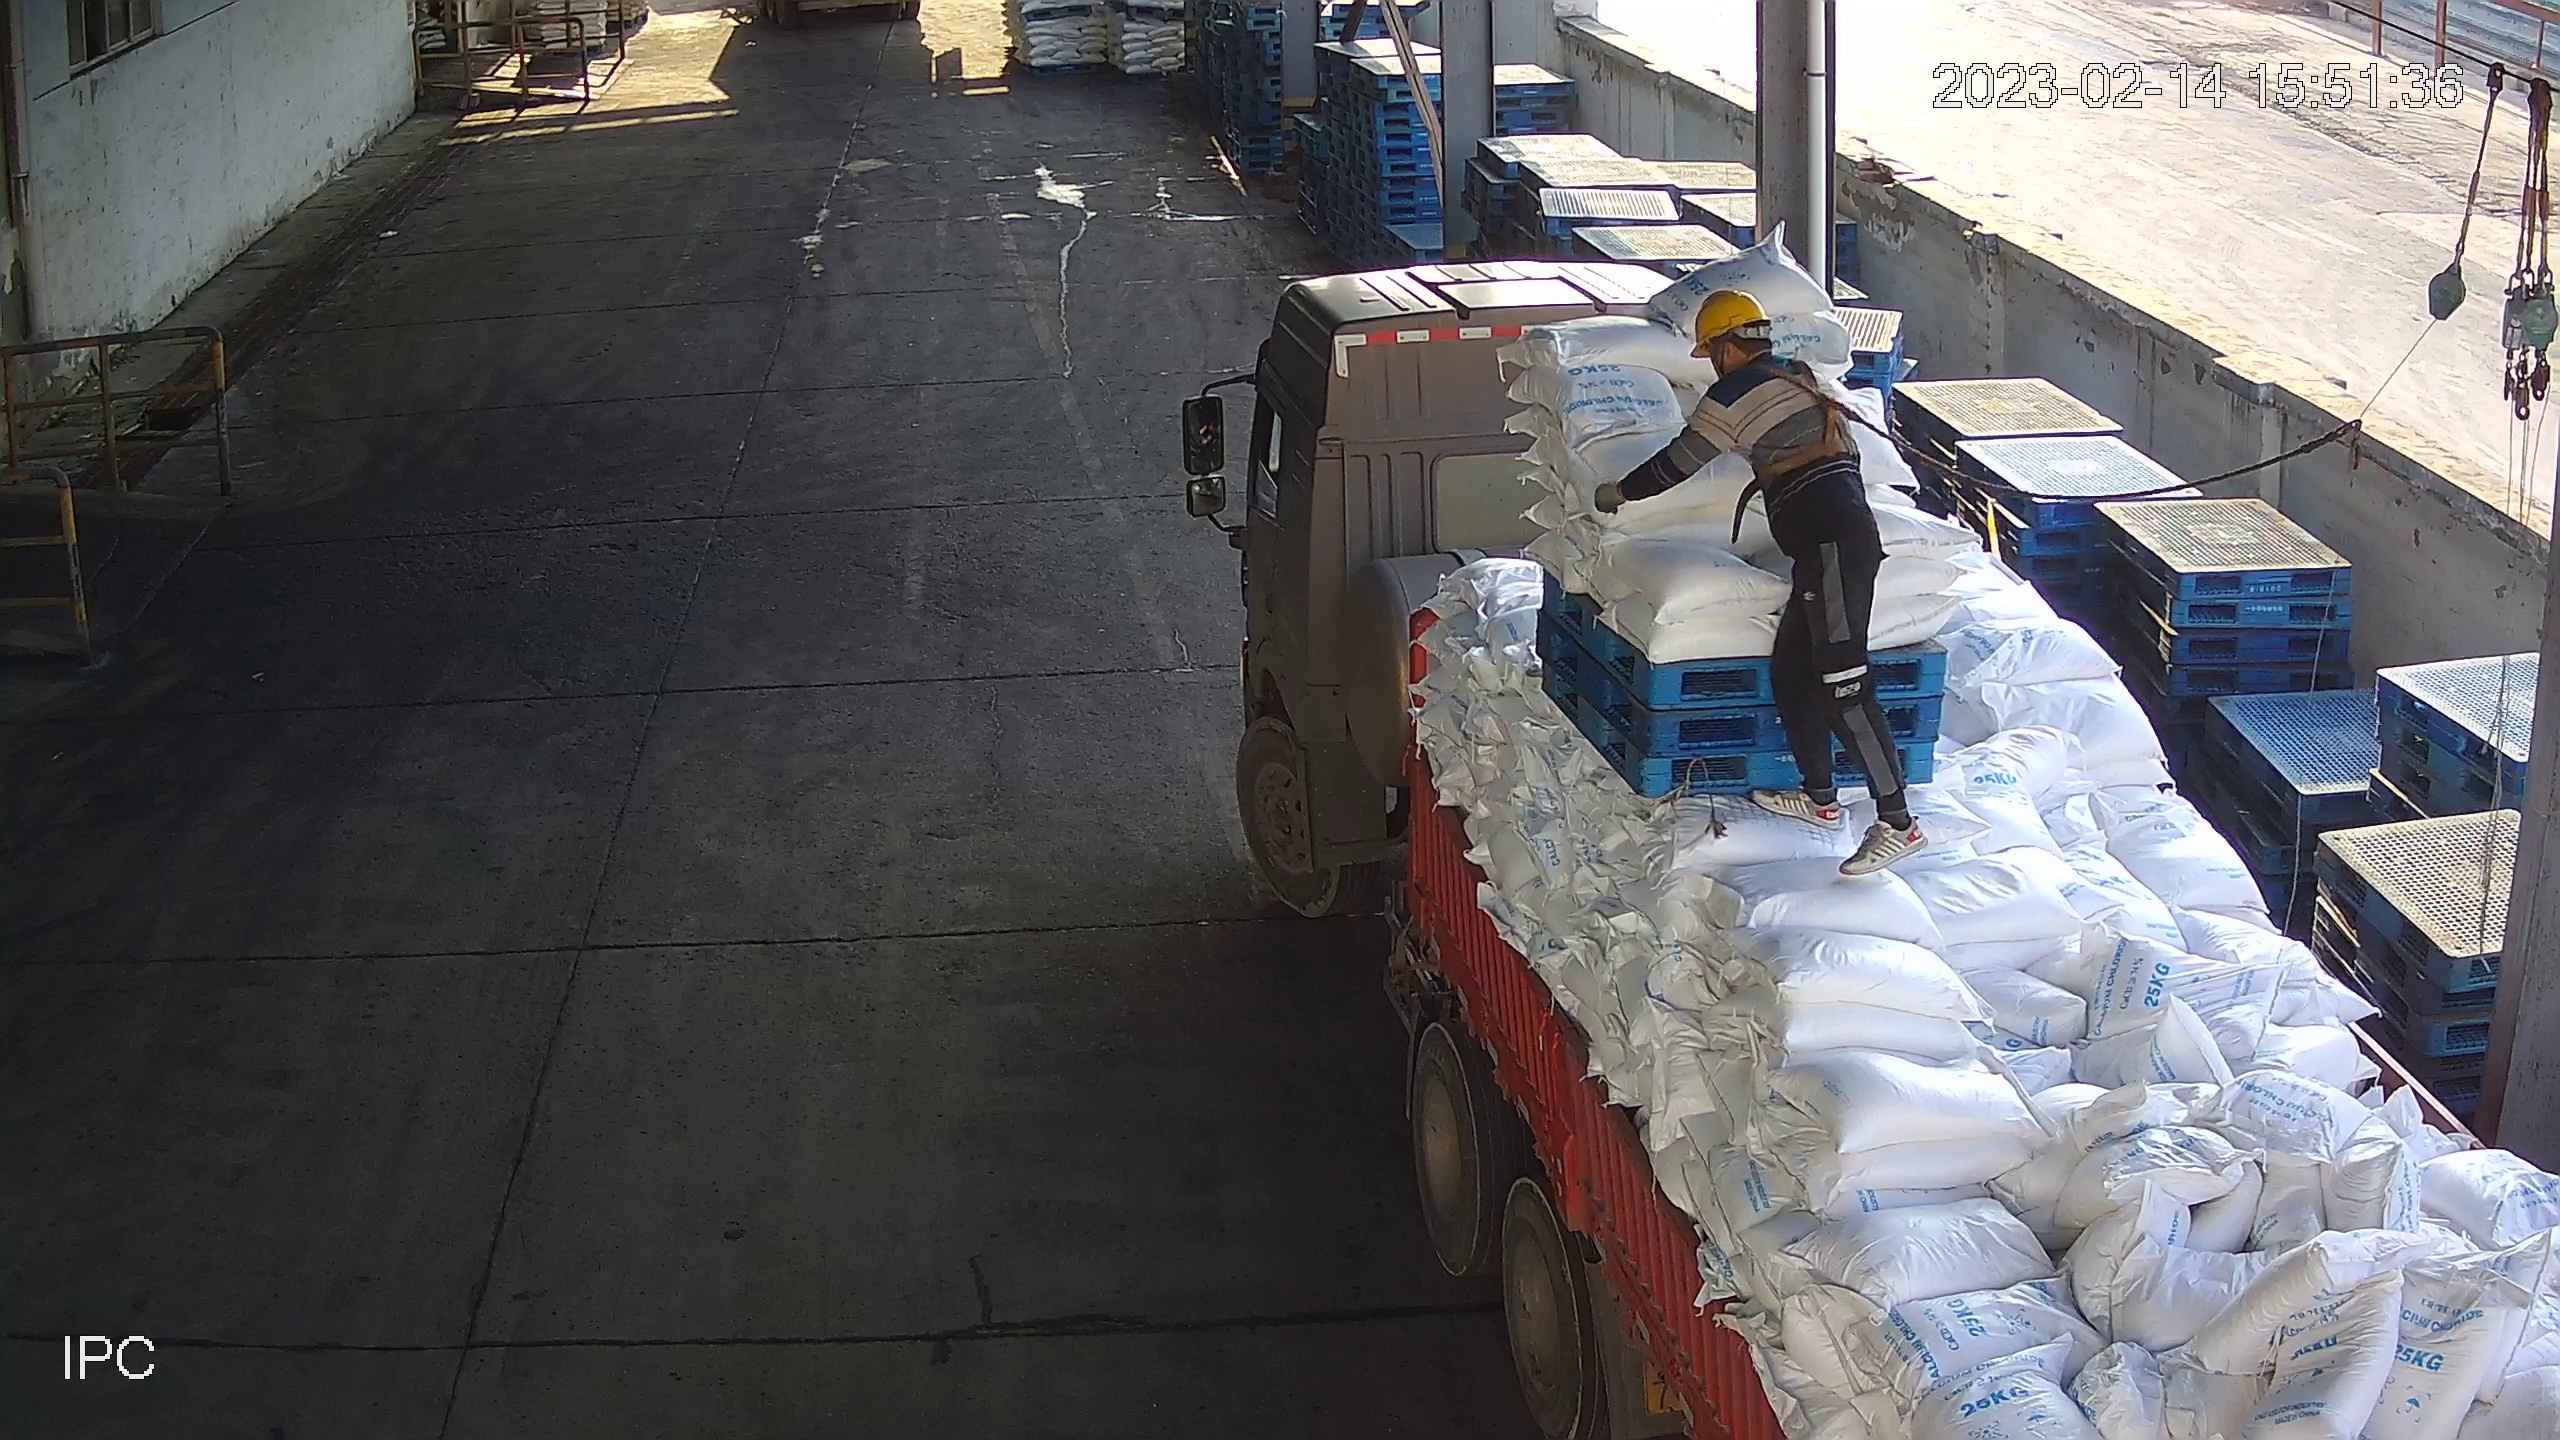belt: (1732, 361, 1864, 542)
head: (1681, 289, 1848, 423)
helmet: (1694, 290, 1768, 356)
people: (1590, 290, 1933, 878)
truck: (1180, 261, 2560, 1440)
